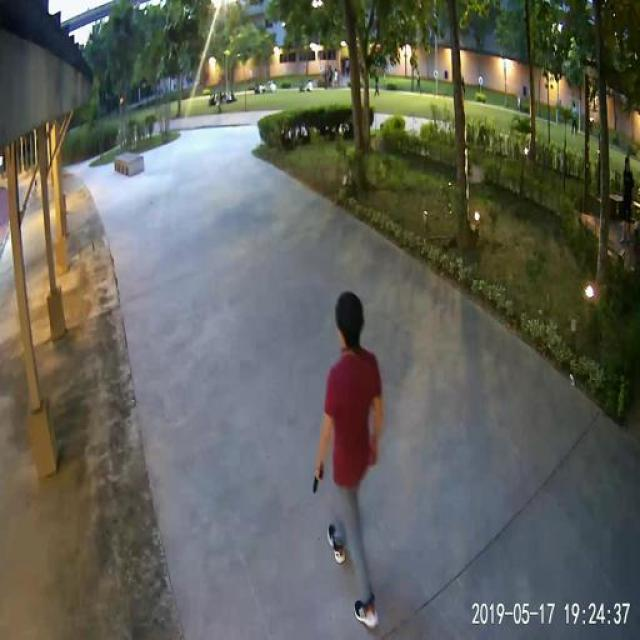Gun: (299, 454, 331, 501)
